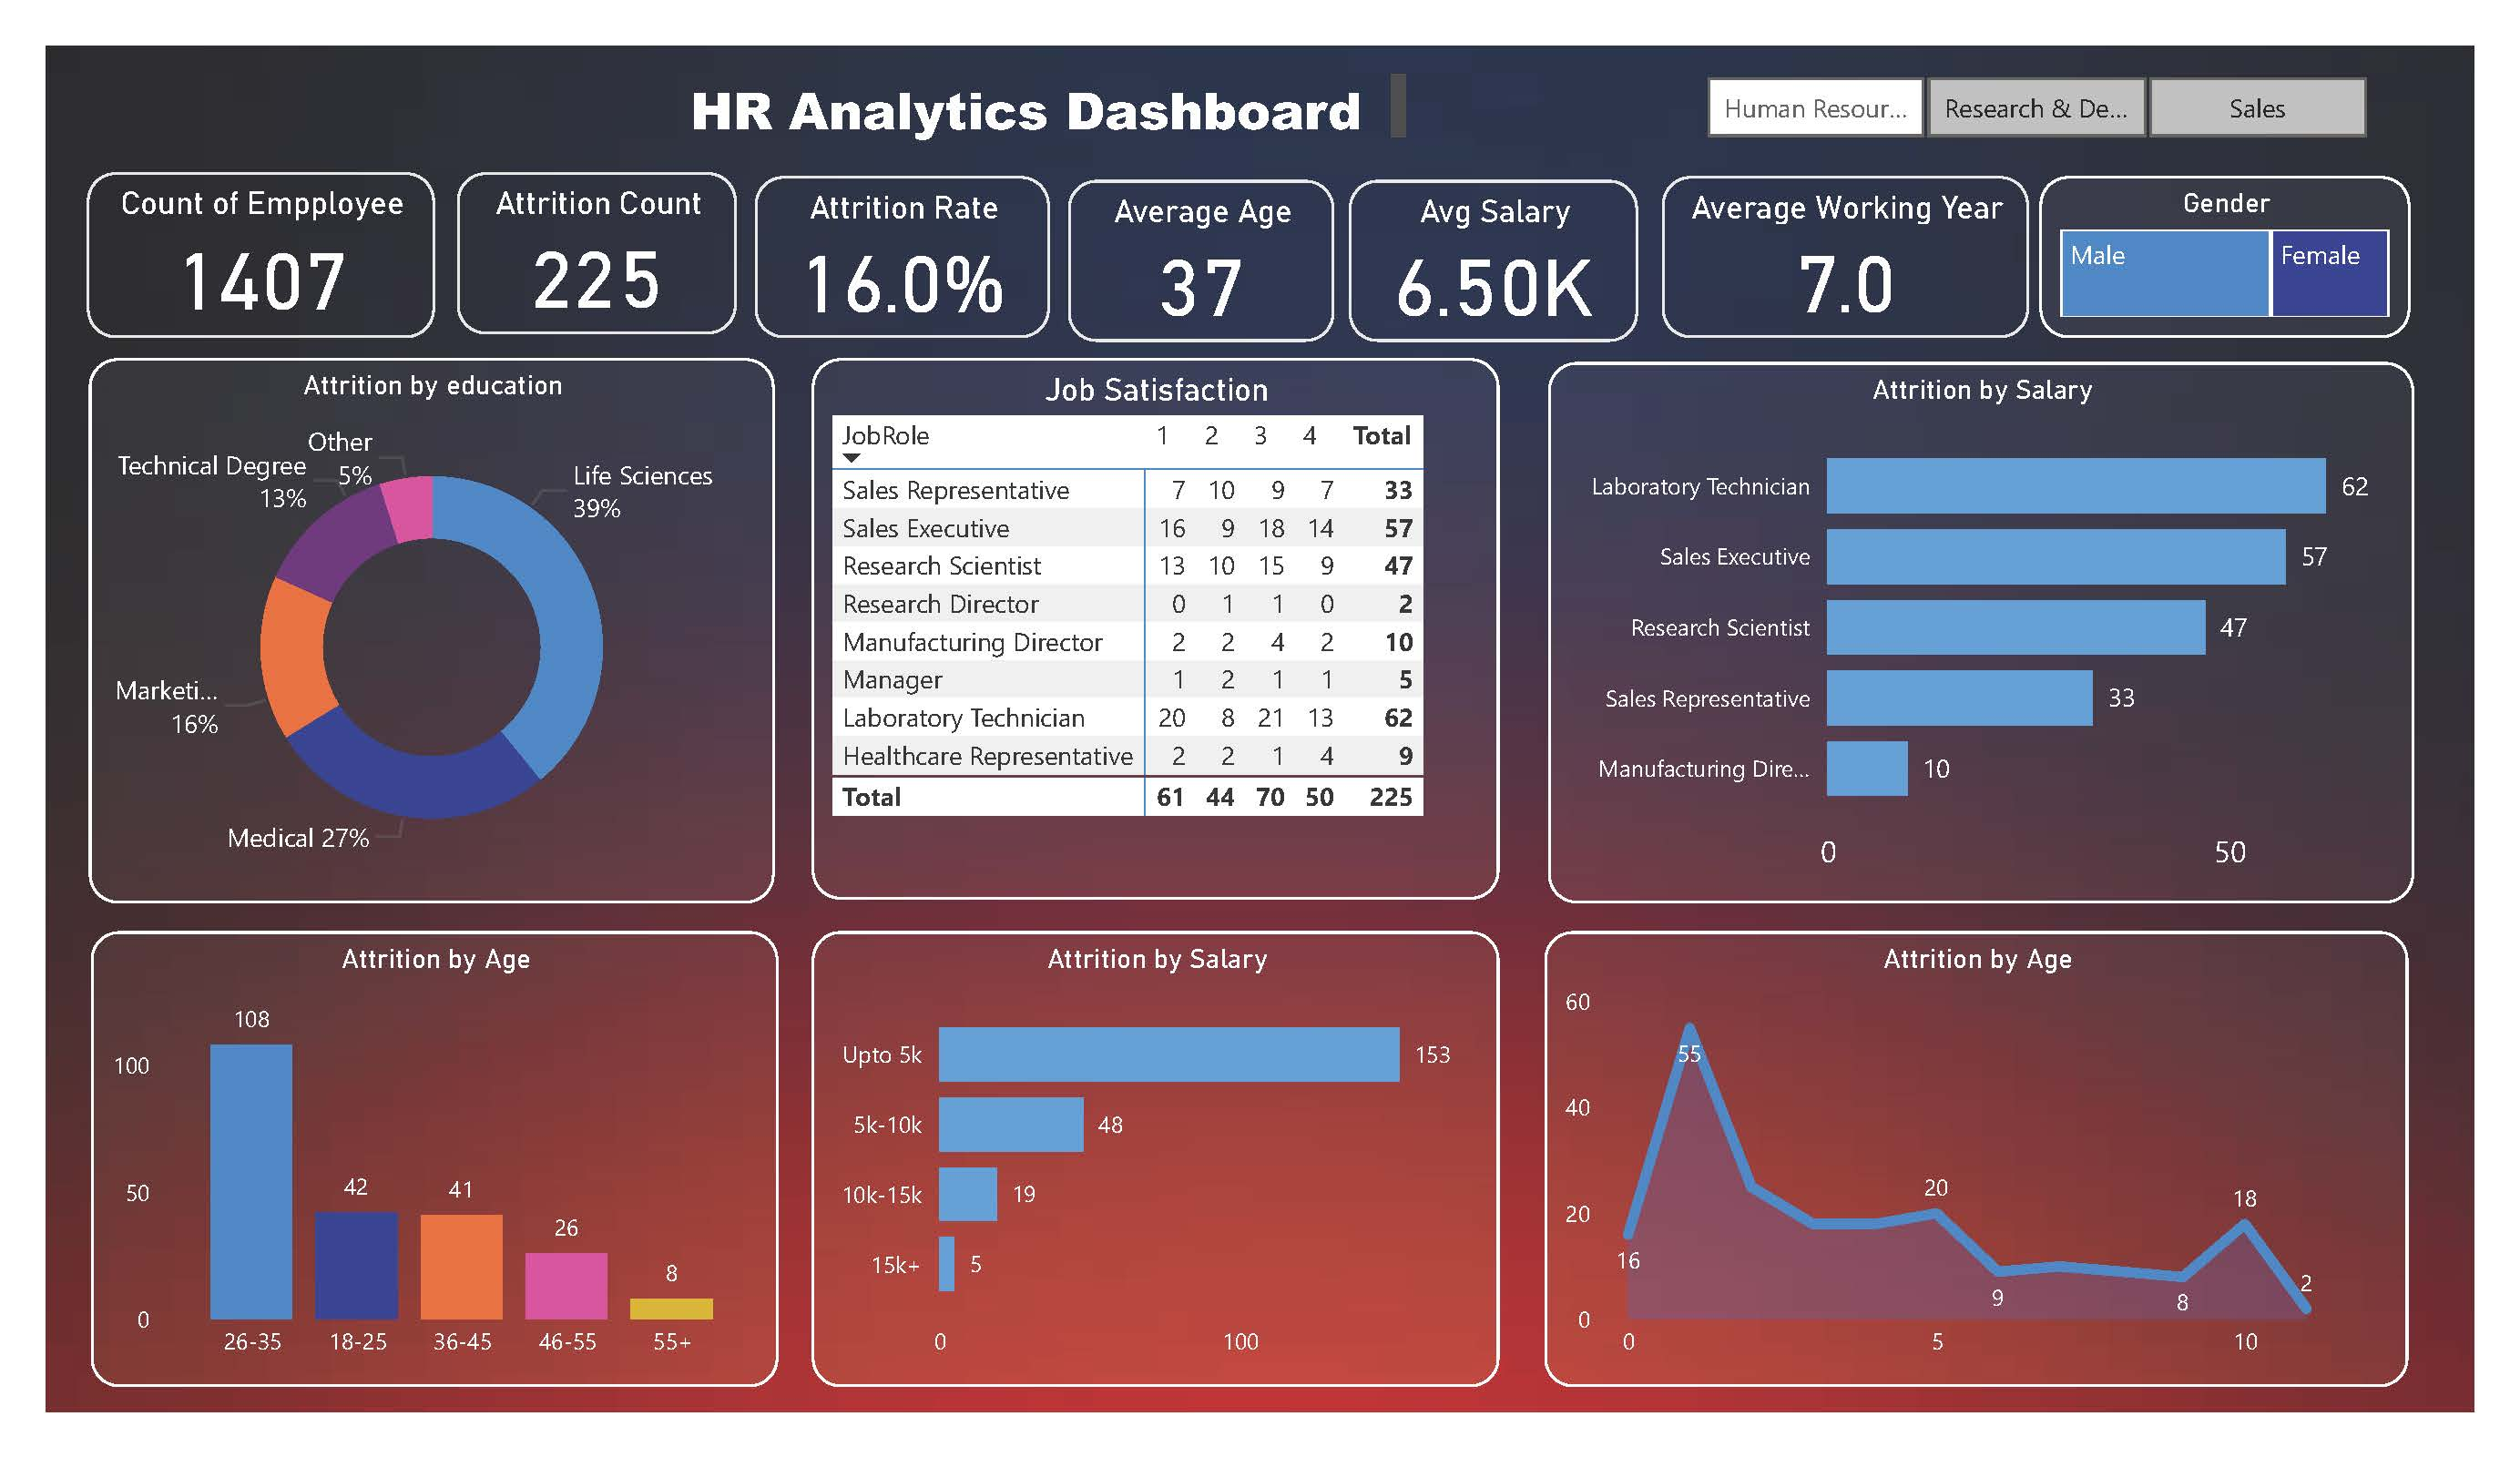

The page's visual inventory and layout, read from the dashboard file:
{"tool":"powerbi","page":{"name":"Page 1","canvas":[1280,720],"ordinal":0},"visuals":[{"type":"card","title":"Count of Empployee","fields":{"Values":["CountNonNull(HR_Analytics.EmpID)"]},"box":[21.9,67.3,183.3,86.7],"z":0},{"type":"card","title":"Attrition Count","fields":{"Values":["Sum(HR_Analytics.Attrition Count)"]},"box":[216.9,67.3,146.7,85],"z":1000},{"type":"card","title":"Attrition Rate","fields":{"Values":["HR_Analytics.Attrition Rate"]},"box":[373.5,68.9,155,85],"z":2000},{"type":"card","title":"Average Age","fields":{"Values":["Avg(HR_Analytics.Age)"]},"box":[538.5,70.6,140,85],"z":3000},{"type":"card","title":"Average Working Year","fields":{"Values":["Avg(HR_Analytics.YearsAtCompany)"]},"box":[851.9,68.9,193.3,85],"z":4000},{"type":"card","title":"Avg Salary","fields":{"Values":["Avg(HR_Analytics.MonthlyIncome)"]},"box":[686.9,70.6,151.7,85],"z":5000},{"type":"donutChart","title":"Attrition by education","fields":{"Category":["HR_Analytics.EducationField"],"Y":["Sum(HR_Analytics.Attrition Count)"]},"box":[22.7,165.2,361.7,286.7],"z":6000},{"type":"columnChart","title":"Attrition by Age","fields":{"Category":["HR_Analytics.AgeGroup"],"Y":["Sum(HR_Analytics.Attrition Count)"]},"box":[24.4,466.9,361.7,240],"z":7000},{"type":"pivotTable","title":"Job Satisfaction","fields":{"Rows":["HR_Analytics.JobRole"],"Columns":["HR_Analytics.JobSatisfaction"],"Values":["Sum(HR_Analytics.Attrition Count)"]},"box":[404.4,165.2,361.7,285],"z":8000},{"type":"clusteredBarChart","title":"Attrition by Salary","fields":{"Category":["HR_Analytics.SalarySlab"],"Y":["Sum(HR_Analytics.Attrition Count)"]},"box":[404.4,466.9,361.7,240],"z":8001},{"type":"clusteredBarChart","title":"Attrition by Salary","fields":{"Category":["HR_Analytics.JobRole"],"Y":["Sum(HR_Analytics.Attrition Count)"]},"box":[791.7,166.7,456.7,285],"z":8002},{"type":"areaChart","title":"Attrition by Age","fields":{"Category":["HR_Analytics.YearsAtCompany"],"Y":["Sum(HR_Analytics.Attrition Count)"]},"box":[790,466.7,455,240],"z":8003},{"type":"treemap","title":"Gender","fields":{"Group":["HR_Analytics.Gender"],"Values":["Sum(HR_Analytics.Attrition Count)"]},"box":[1051.3,68.9,195,85],"z":8004},{"type":"slicer","fields":{"Values":["HR_Analytics.Department"]},"box":[850,10,396.7,45],"z":8005},{"type":"textbox","box":[335,10,386.7,45],"z":8006}]}

Visuals, with their boxes in screenshot pixels (x1, y1, x2, y2):
"Count of Empployee" card: bbox(88, 157, 444, 325)
"Attrition Count" card: bbox(467, 157, 752, 321)
"Attrition Rate" card: bbox(771, 160, 1072, 325)
"Average Age" card: bbox(1091, 163, 1363, 329)
"Average Working Year" card: bbox(1700, 160, 2076, 325)
"Avg Salary" card: bbox(1380, 163, 1674, 329)
"Attrition by education" donutChart: bbox(90, 347, 792, 903)
"Attrition by Age" columnChart: bbox(93, 932, 796, 1399)
"Job Satisfaction" pivotTable: bbox(831, 347, 1534, 901)
"Attrition by Salary" clusteredBarChart: bbox(831, 932, 1534, 1399)
"Attrition by Salary" clusteredBarChart: bbox(1583, 350, 2470, 903)
"Attrition by Age" areaChart: bbox(1580, 932, 2464, 1398)
"Gender" treemap: bbox(2087, 160, 2465, 325)
slicer - HR_Analytics.Department: bbox(1696, 46, 2466, 133)
textbox: bbox(697, 46, 1447, 133)
